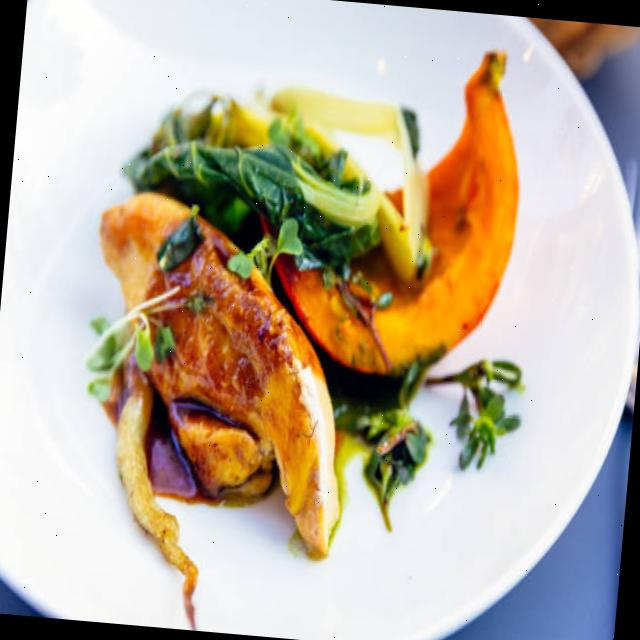pumpkin: (254, 77, 524, 366)
